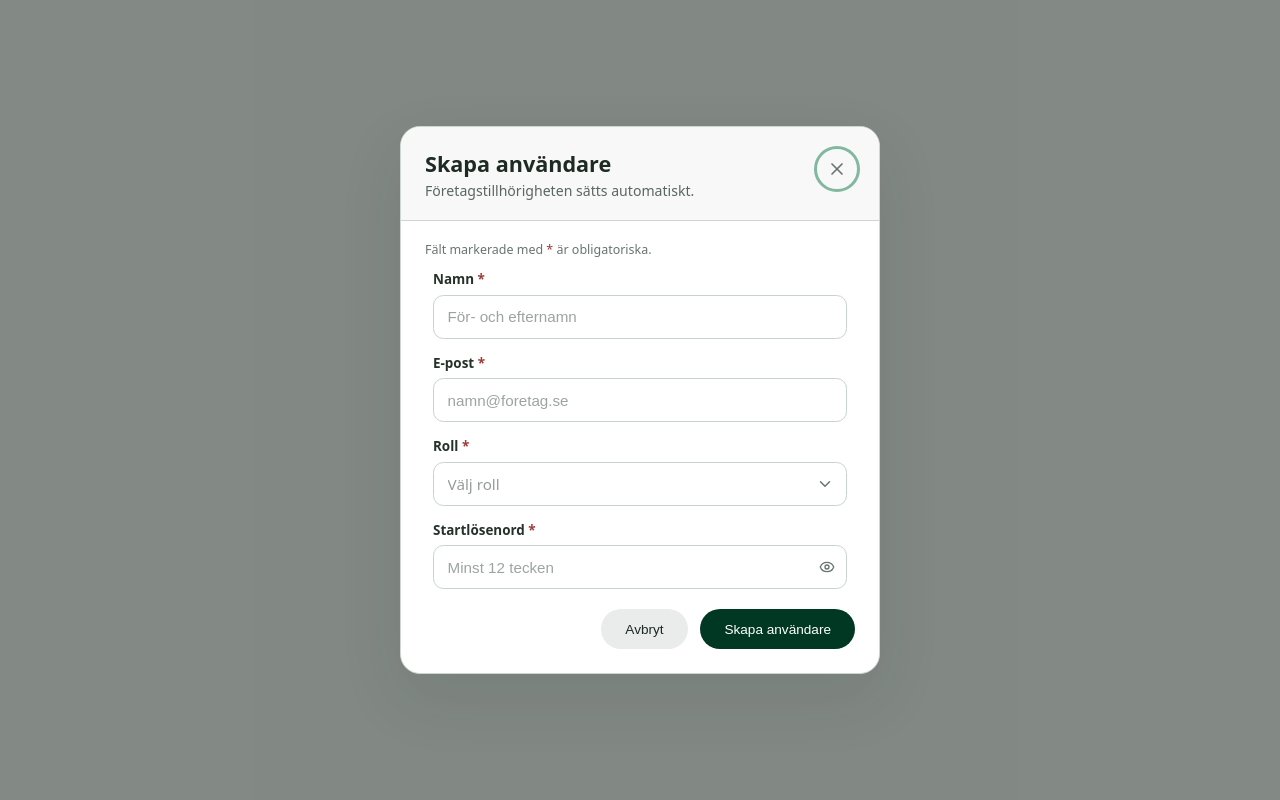
Test case: CreateUserModal › disables the submit button while the request is pending
Type "Kalle Kula" into the field labelled "Namn *" at (640, 317), box [433,295,847,339]
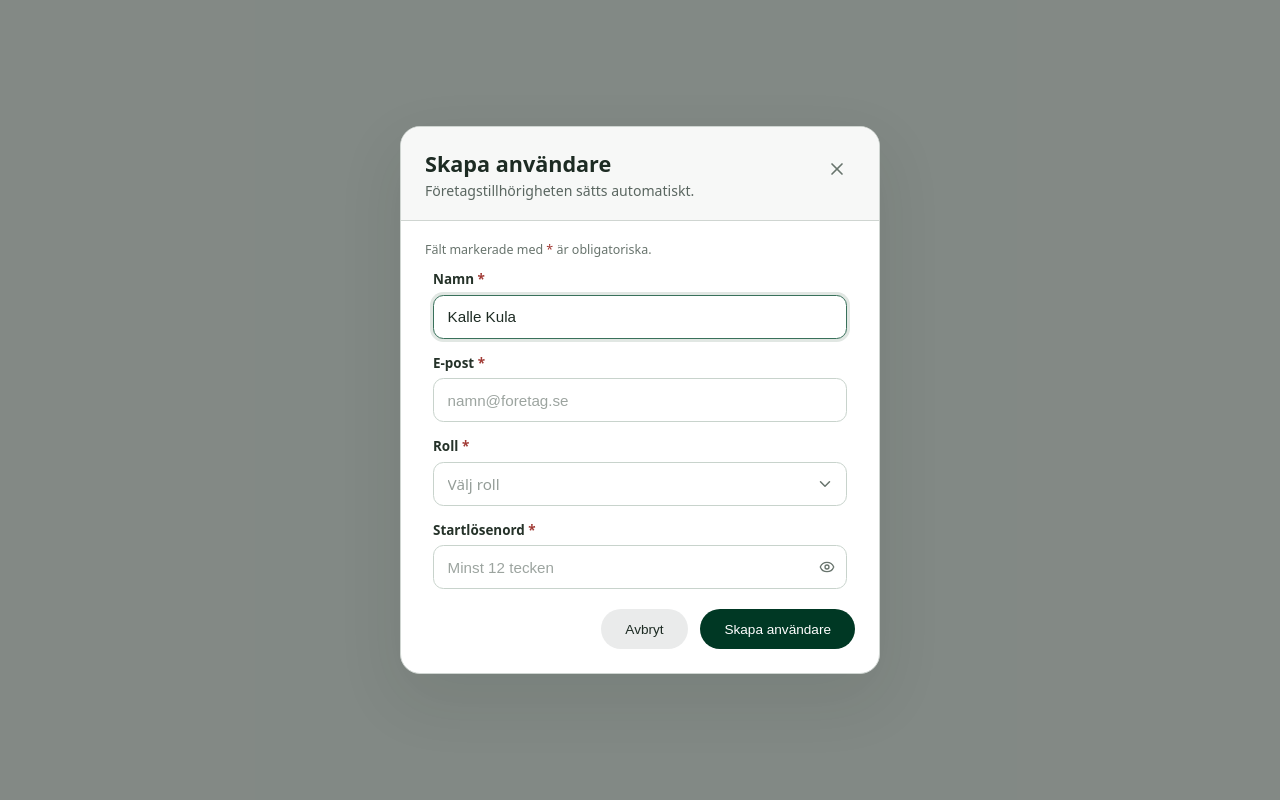
Type "kalle@foretag.se" into the field labelled "E-post *" at (640, 400), box [433,378,847,422]
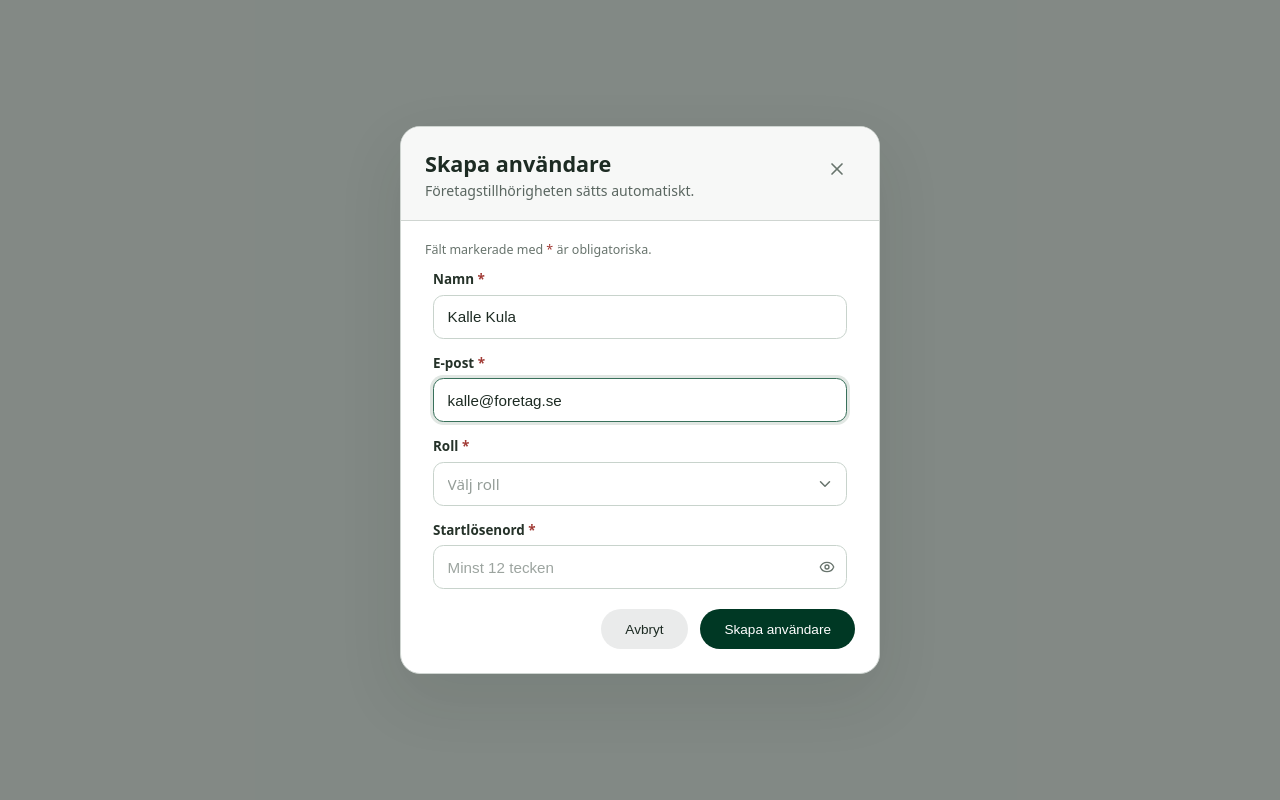
Click the dropdown labelled "Välj roll" at (474, 484), box [433,462,847,506]
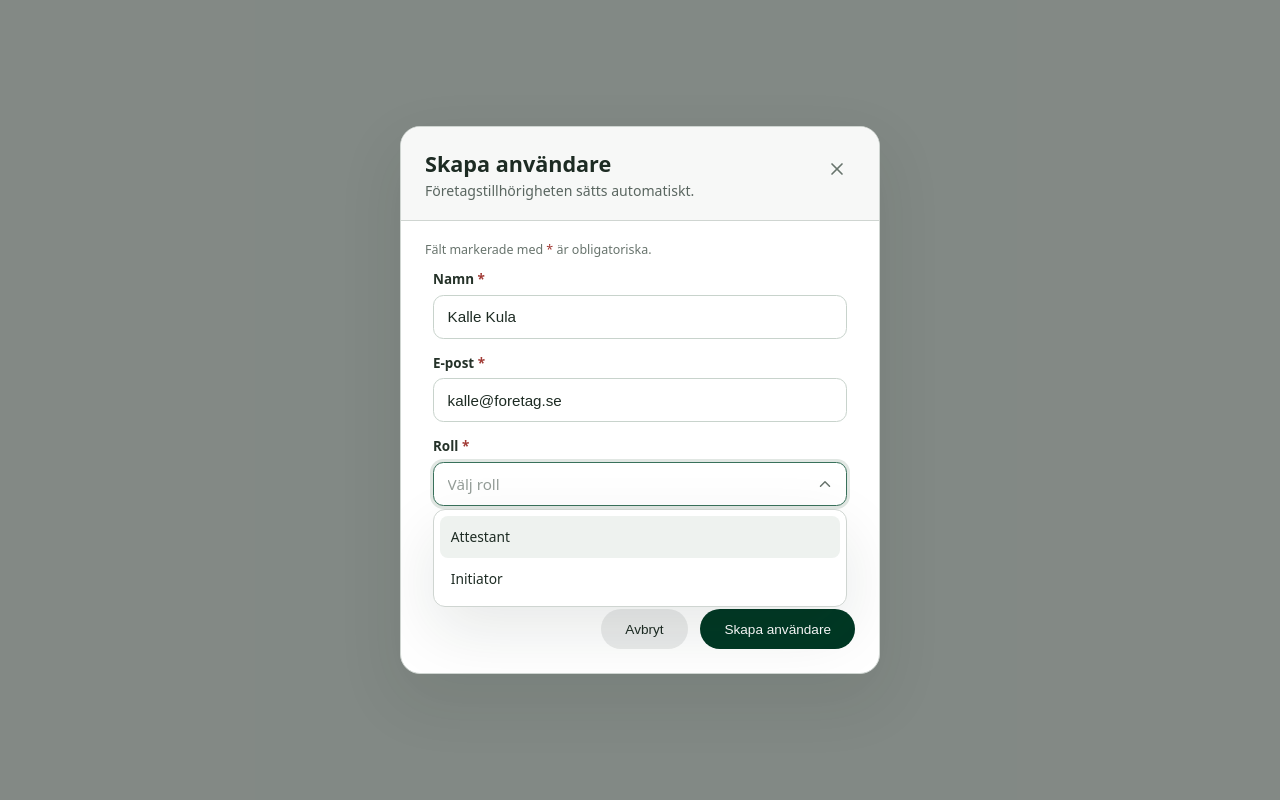
Click the option "Initiator" at (477, 578), box [451,569,503,588]
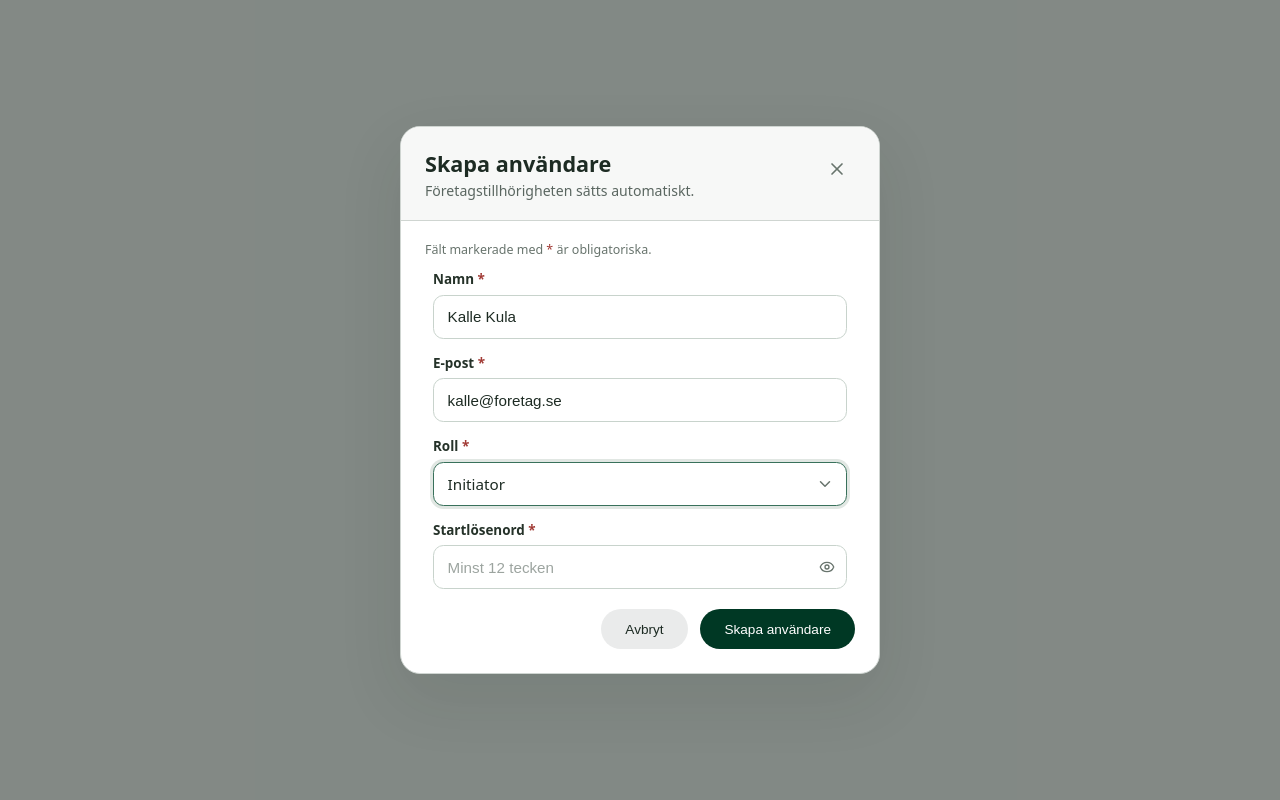
Type "hemligt-lösen-123" into the password field labelled "Startlösenord *" at (640, 567), box [433,545,847,589]
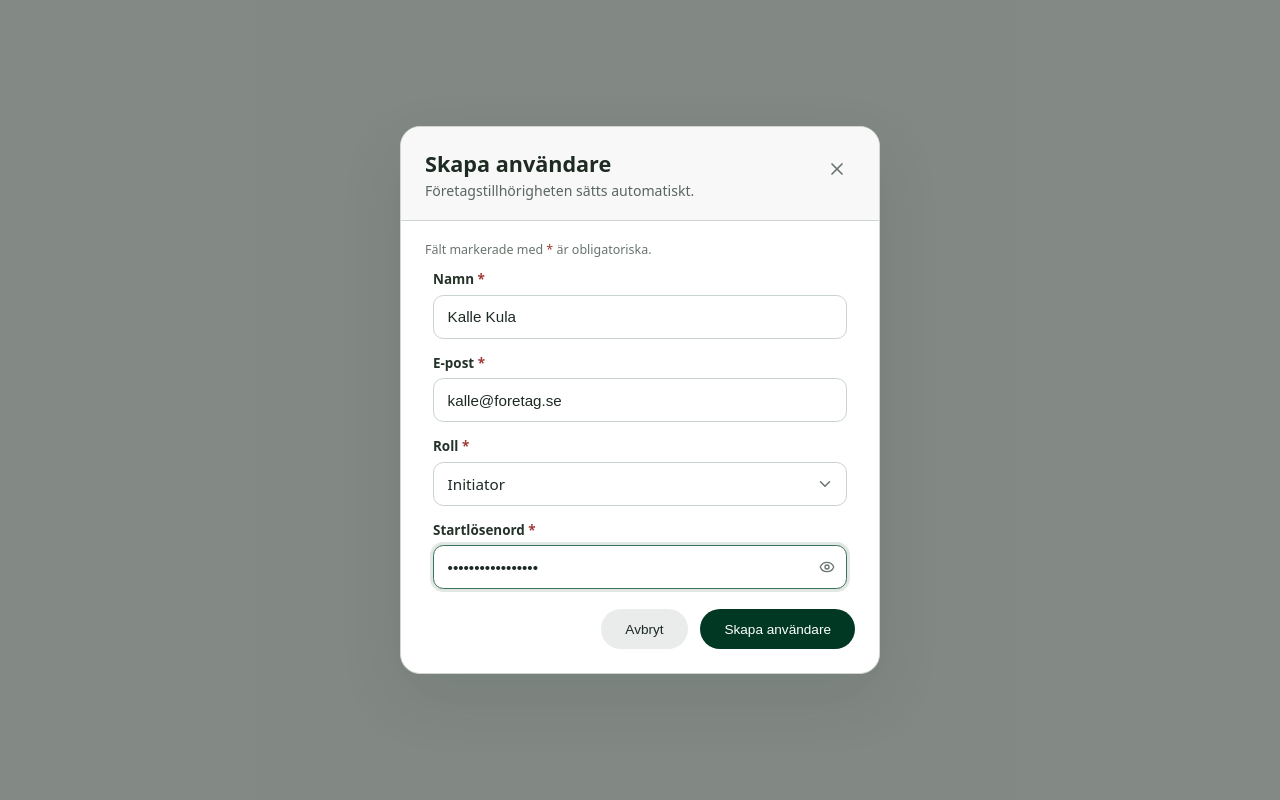
Click the button "Skapa användare" at (778, 629), box [700,609,855,649]
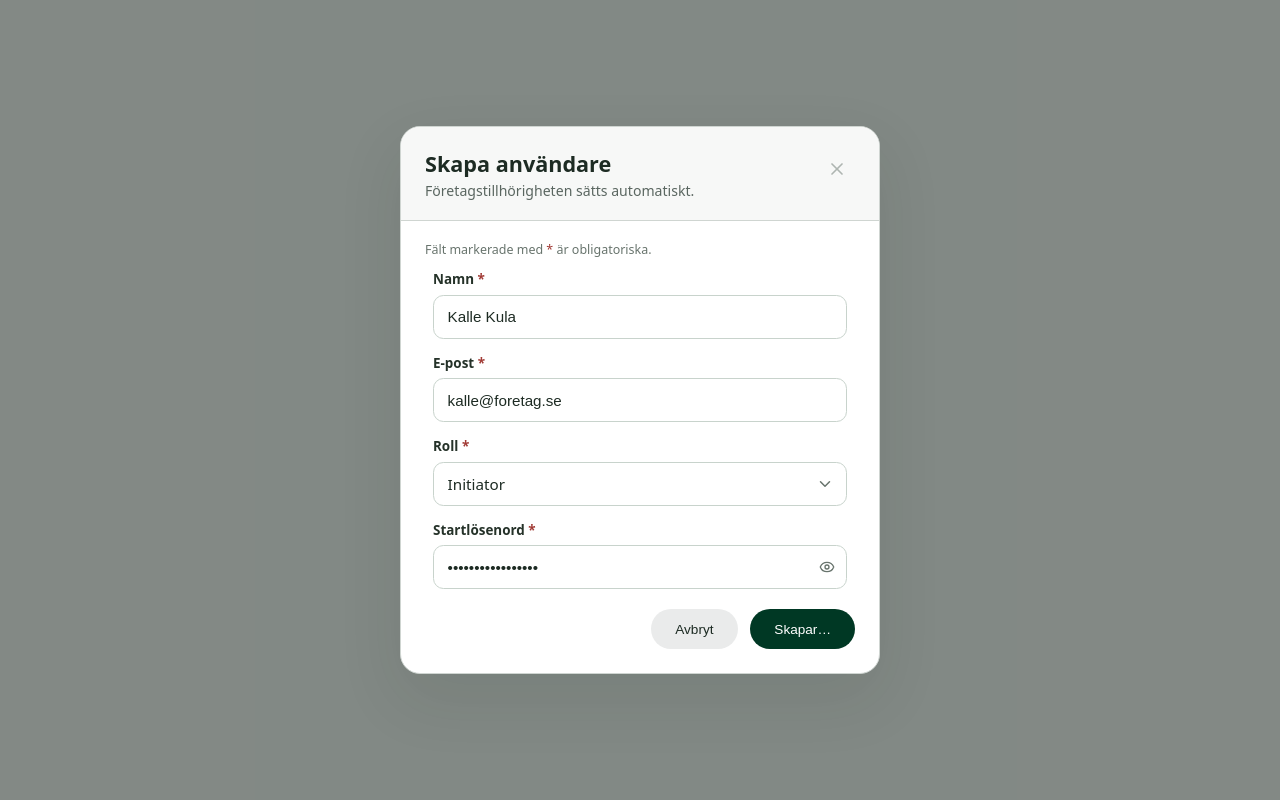
Check: the button "Skapar…" is disabled, box [750,609,855,649]
Check: the button "Avbryt" is disabled, box [651,609,738,649]
